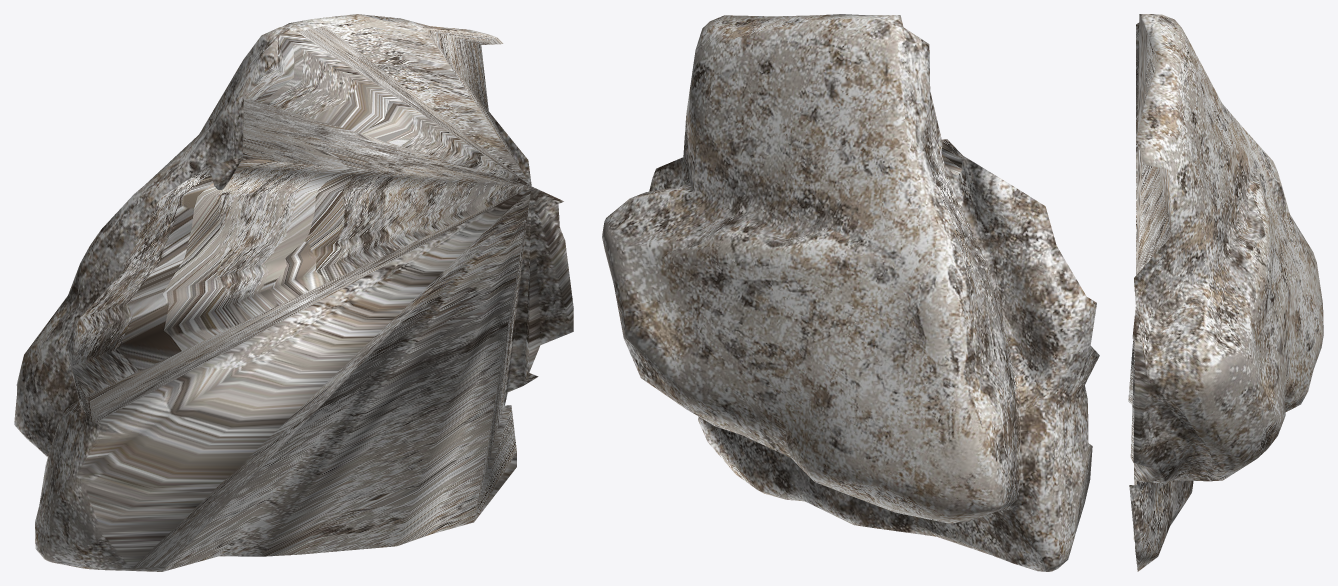
Rendered from stenasperedi3kamen.fbx.
3 views of the same model, side by side, from view 1: azimuth 30°, elevation 25°; view 2: azimuth 150°, elevation 25°; view 3: azimuth 270°, elevation 25° (orthographic). The views are drawn at different scales.
Visible parts, largest first — view 1: Rock_1_Lod; view 2: Rock_1_Lod; view 3: Rock_1_Lod.
Boxes of the visible parts, x1,y1,x2,y2 form: Rock_1_Lod: [14, 14, 573, 571]; Rock_1_Lod: [602, 14, 1099, 571]; Rock_1_Lod: [1128, 14, 1323, 571].
Bounding box in the file's own units: 90.02 × 93.7 × 33.99.
